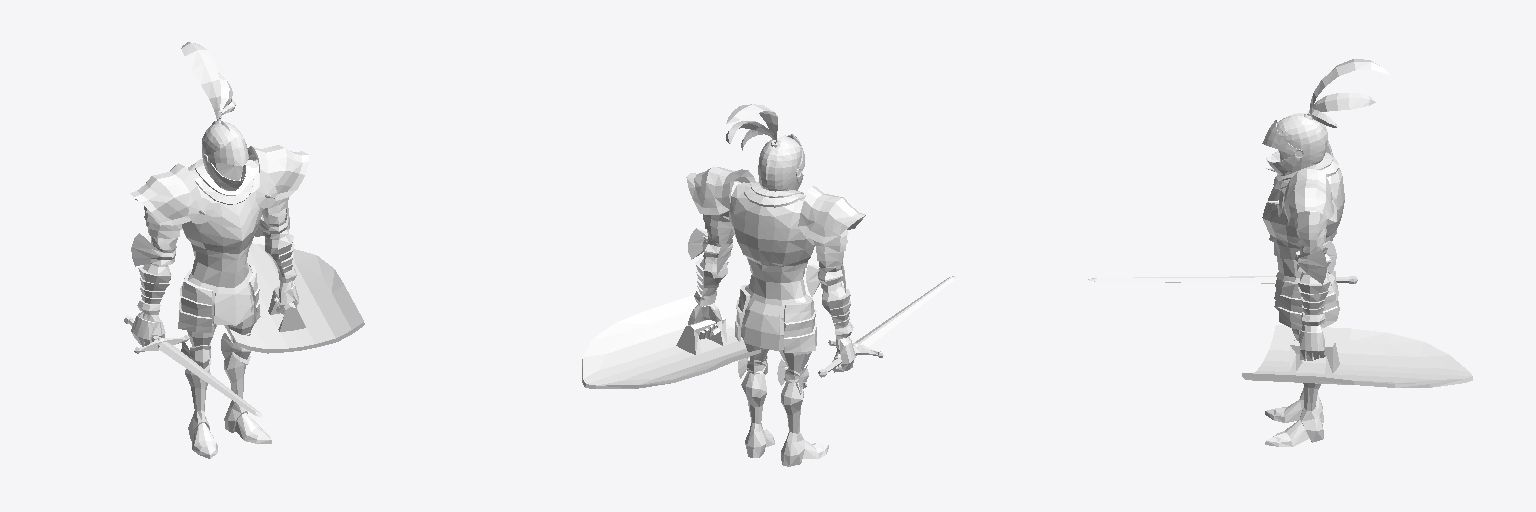
File: Knight.obj
3 renders of one model, left to right at view 1: azimuth 30°, elevation 25°; view 2: azimuth 150°, elevation 25°; view 3: azimuth 270°, elevation 25°, orthographic.
Visible parts, largest first — view 1: Model001_5_Material0_1_0_0, Model001_5_Material17(1)_1_0_0, Model001_5_Material18_1_0_0, Model001_5_Material17_1_0_0; view 2: Model001_5_Material0_1_0_0, Model001_5_Material17(1)_1_0_0, Model001_5_Material17_1_0_0; view 3: Model001_5_Material0_1_0_0, Model001_5_Material17(1)_1_0_0, Model001_5_Material17_1_0_0, Model001_5_Material18_1_0_0.
Part boxes in pixels (x1,y1,x2,y2): Model001_5_Material0_1_0_0: (130,42,308,458); Model001_5_Material17(1)_1_0_0: (229,243,364,353); Model001_5_Material18_1_0_0: (188,137,276,223); Model001_5_Material17_1_0_0: (124,316,261,416); Model001_5_Material0_1_0_0: (686,104,865,466); Model001_5_Material17(1)_1_0_0: (582,295,760,388); Model001_5_Material17_1_0_0: (818,276,955,377); Model001_5_Material0_1_0_0: (1262,59,1389,446); Model001_5_Material17(1)_1_0_0: (1242,325,1472,387); Model001_5_Material17_1_0_0: (1088,276,1357,283); Model001_5_Material18_1_0_0: (1262,120,1303,216).
Size of the model in its own units: 61.02 by 90.46 by 85.82.